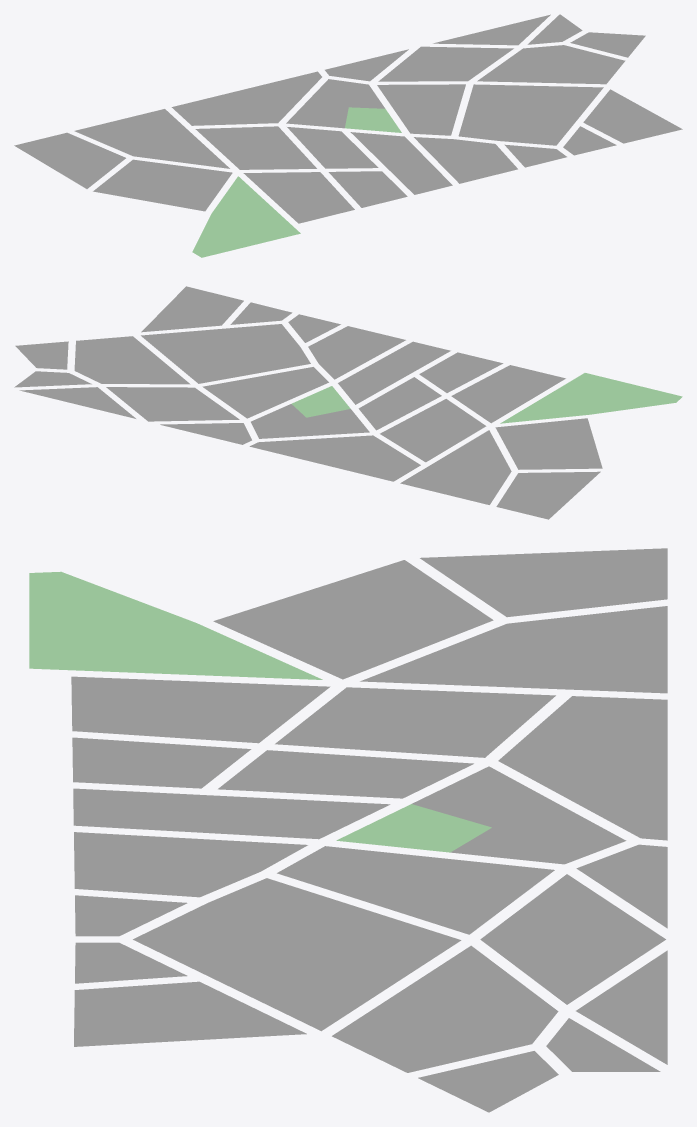
The model's file is Ground.fbx.
The picture shows the model from 3 angles, top to bottom: view 1: azimuth 30°, elevation 25°; view 2: azimuth 150°, elevation 25°; view 3: azimuth 270°, elevation 25°; orthographic projection. The views are drawn at different scales.
Visible parts, largest first — view 1: polySurface17, polySurface12, polySurface10, polySurface28, polySurface13, polySurface21, polySurface15, polySurface9, polySurface8, polySurface16, polySurface19, polySurface11 (+11 smaller); view 2: polySurface17, polySurface12, polySurface10, polySurface28, polySurface13, polySurface21, polySurface15, polySurface9, polySurface8, polySurface16, polySurface19, polySurface11 (+11 smaller); view 3: polySurface17, polySurface12, polySurface10, polySurface28, polySurface13, polySurface21, polySurface15, polySurface9, polySurface8, polySurface16, polySurface19, polySurface11 (+11 smaller).
Part boxes in pixels (x1,y1,x2,y2): polySurface17: (458, 84, 603, 145); polySurface12: (74, 109, 229, 168); polySurface10: (93, 159, 232, 211); polySurface28: (192, 176, 300, 257); polySurface13: (171, 71, 321, 125); polySurface21: (477, 45, 625, 84); polySurface15: (286, 79, 401, 132); polySurface9: (195, 126, 316, 169); polySurface8: (243, 172, 354, 223); polySurface16: (377, 84, 465, 135); polySurface19: (378, 46, 513, 81); polySurface11: (14, 132, 125, 188); polySurface17: (141, 324, 310, 383); polySurface12: (400, 430, 511, 504); polySurface10: (495, 418, 602, 469); polySurface28: (500, 373, 682, 423); polySurface13: (249, 435, 420, 481); polySurface21: (74, 336, 190, 384); polySurface15: (251, 386, 369, 438); polySurface9: (380, 399, 486, 462); polySurface8: (451, 365, 565, 423); polySurface16: (202, 367, 328, 418); polySurface19: (106, 387, 239, 421); polySurface11: (496, 471, 600, 519); polySurface17: (133, 878, 461, 1031); polySurface12: (360, 606, 667, 693); polySurface10: (213, 560, 493, 679); polySurface28: (29, 571, 322, 679); polySurface13: (498, 696, 667, 840); polySurface21: (332, 945, 558, 1072); polySurface15: (336, 766, 626, 864); polySurface9: (275, 687, 555, 757); polySurface8: (71, 676, 330, 743); polySurface16: (277, 846, 554, 934); polySurface19: (480, 874, 665, 1004); polySurface11: (420, 548, 667, 617).
Bounding box in the file's own units: 4517 × 4.95e-14 × 2160.
